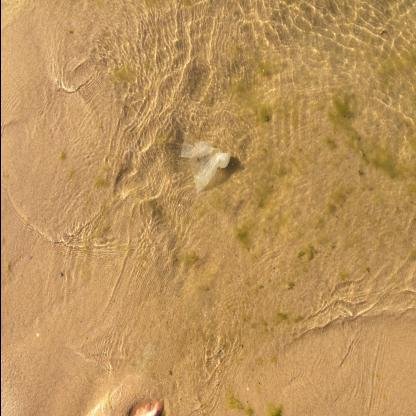plastik: (181, 137, 231, 195)
